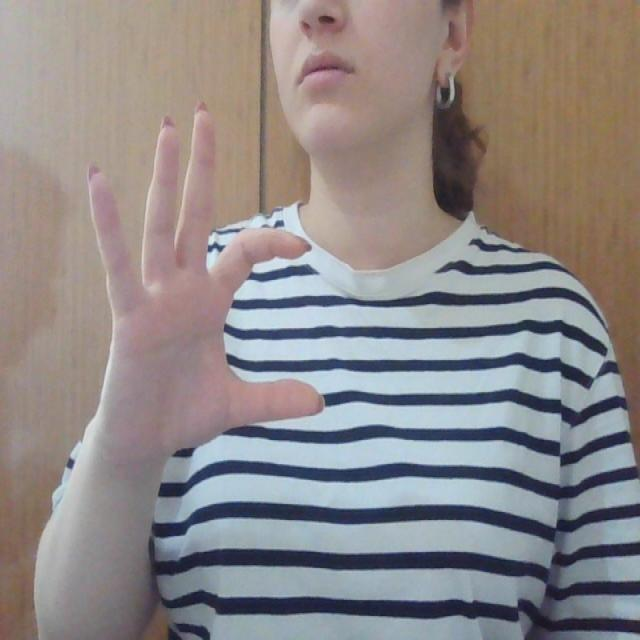Tuvalet: (80, 86, 328, 447)
